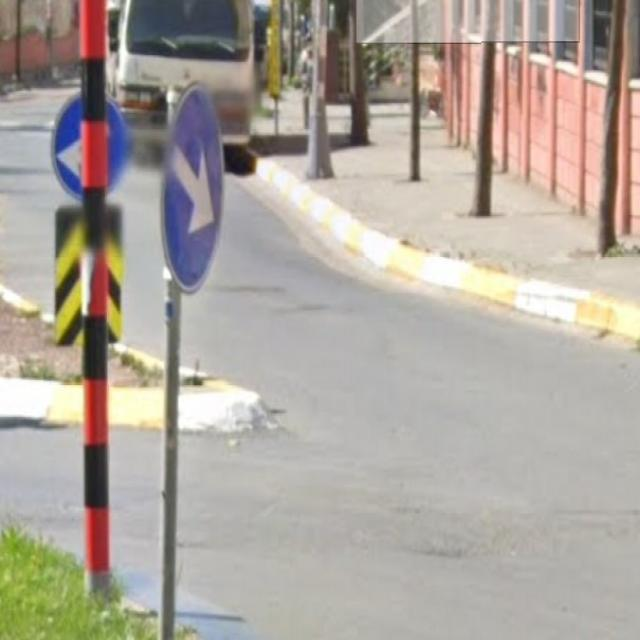Turn Right: (150, 97, 234, 296)
